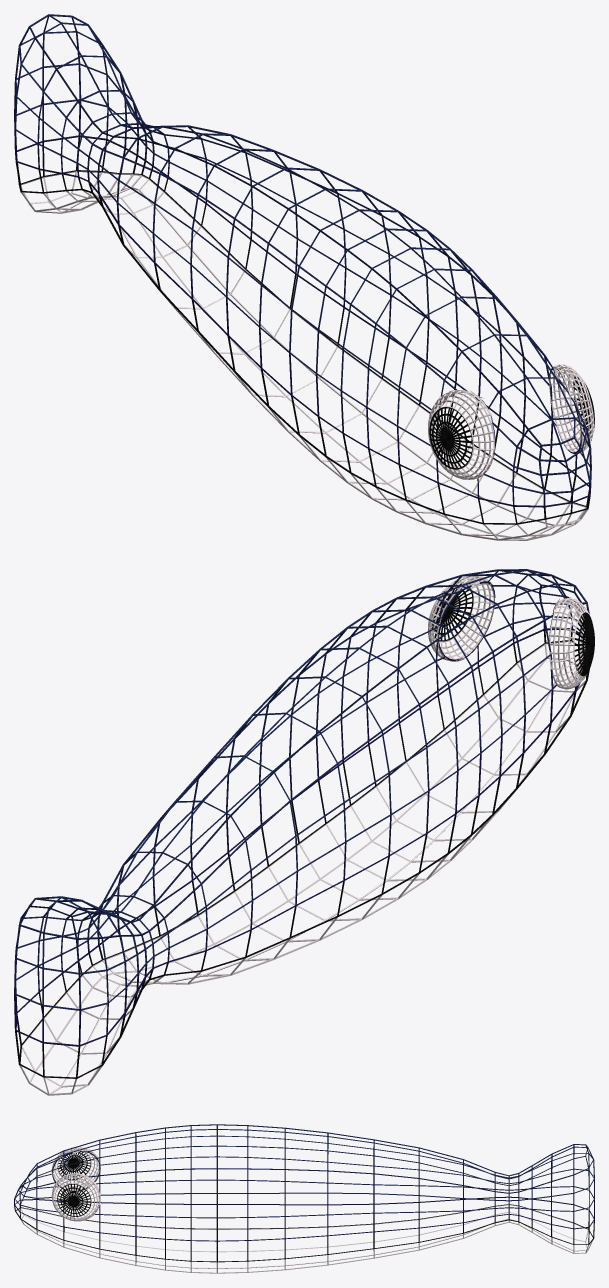
Rendered from chovy2.glb.
3 renders of one model, top to bottom at view 1: azimuth 30°, elevation 25°; view 2: azimuth 150°, elevation 25°; view 3: azimuth 270°, elevation 25°, orthographic. The views are drawn at different scales.
Visible parts, largest first — view 1: chovy; view 2: chovy; view 3: chovy.
Part boxes in pixels (x1,y1,x2,y2): chovy: (14, 14, 594, 540); chovy: (14, 569, 594, 1095); chovy: (14, 1124, 594, 1273).
Size of the model in its own units: 3.91 by 6.41 by 24.09.
